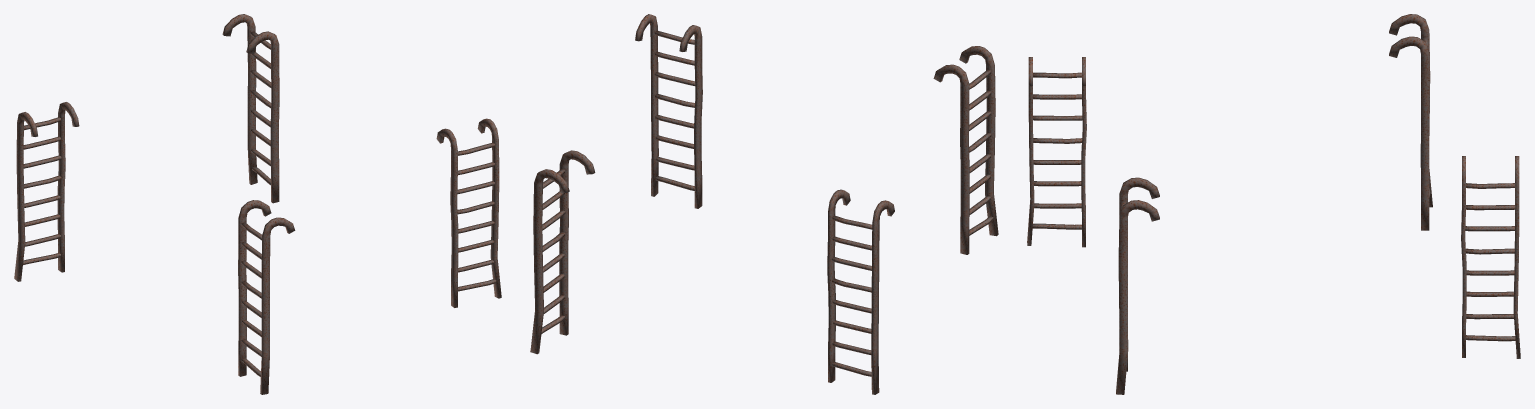
Rendered from SM_LDFest_12_Ladders0.fbx.
The picture shows the model from 3 angles, left to right: view 1: azimuth 30°, elevation 25°; view 2: azimuth 150°, elevation 25°; view 3: azimuth 270°, elevation 25°; orthographic projection. The views are drawn at different scales.
Parts seen in each view (by area): view 1: SM_LDFest_12_Ladders0; view 2: SM_LDFest_12_Ladders0; view 3: SM_LDFest_12_Ladders0.
Part boxes in pixels (box(x1,y1,x2,y2)): SM_LDFest_12_Ladders0: box(14, 14, 501, 394); SM_LDFest_12_Ladders0: box(530, 14, 998, 394); SM_LDFest_12_Ladders0: box(1027, 14, 1520, 394).
Bounding box in the file's own units: 2013 × 956 × 2220.
